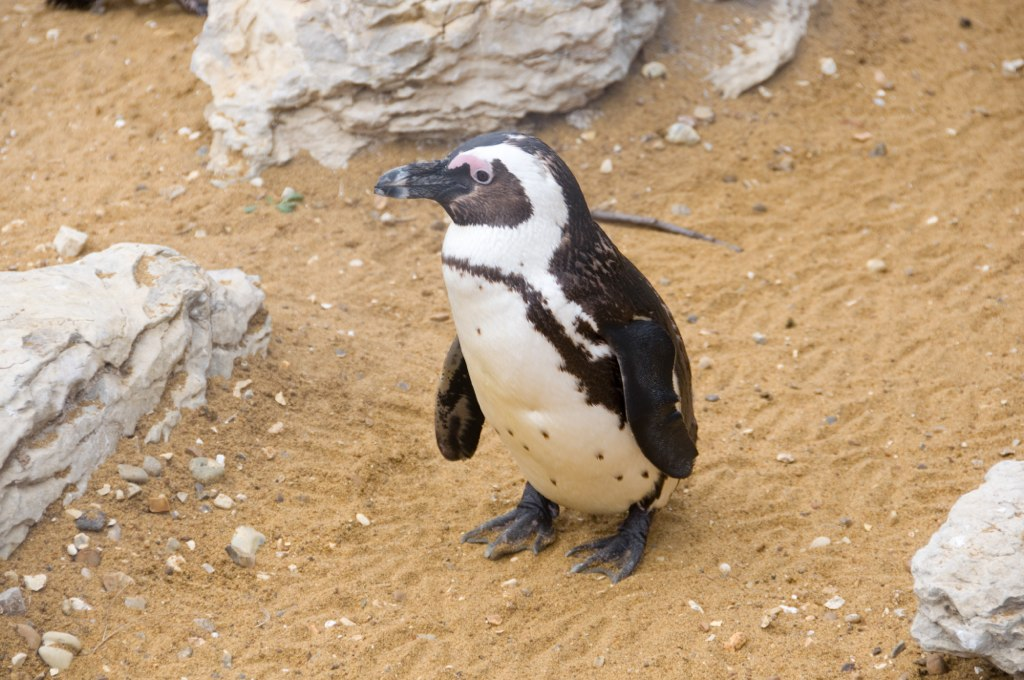penguin: (377, 126, 698, 586)
